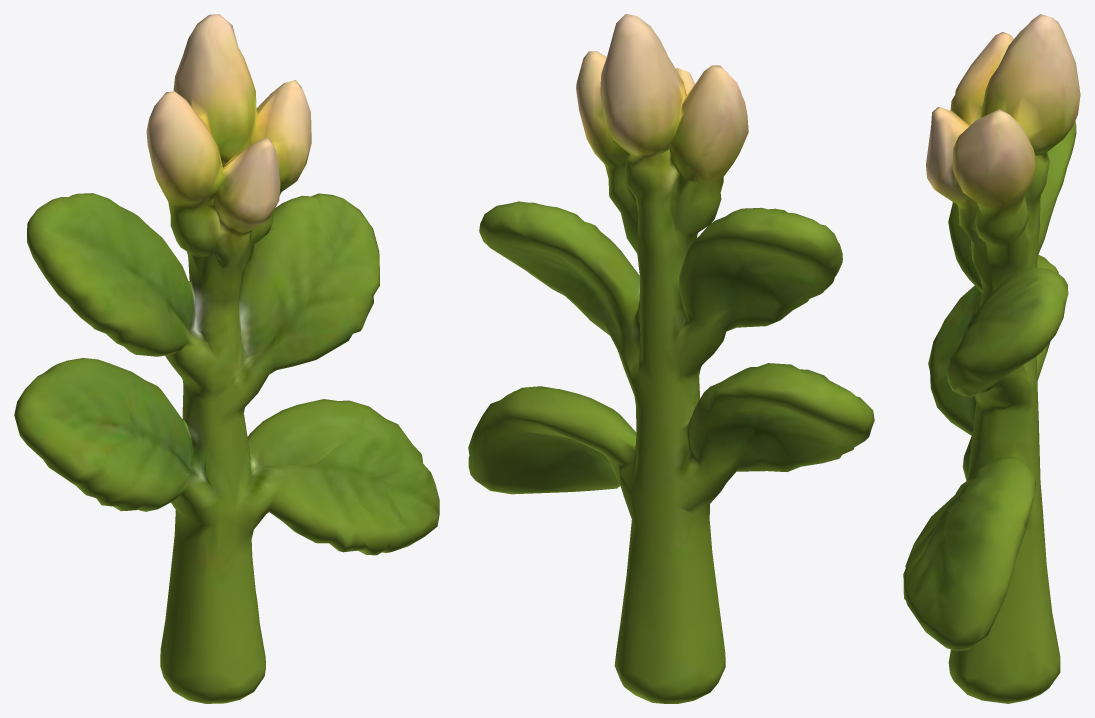
File: plumeria_s3.glb
The picture shows the model from 3 angles, left to right: view 1: azimuth 30°, elevation 25°; view 2: azimuth 150°, elevation 25°; view 3: azimuth 270°, elevation 25°; orthographic projection. The views are drawn at different scales.
Size of the model in its own units: 0.631 by 1 by 0.233.
1 material, 1 textured.
